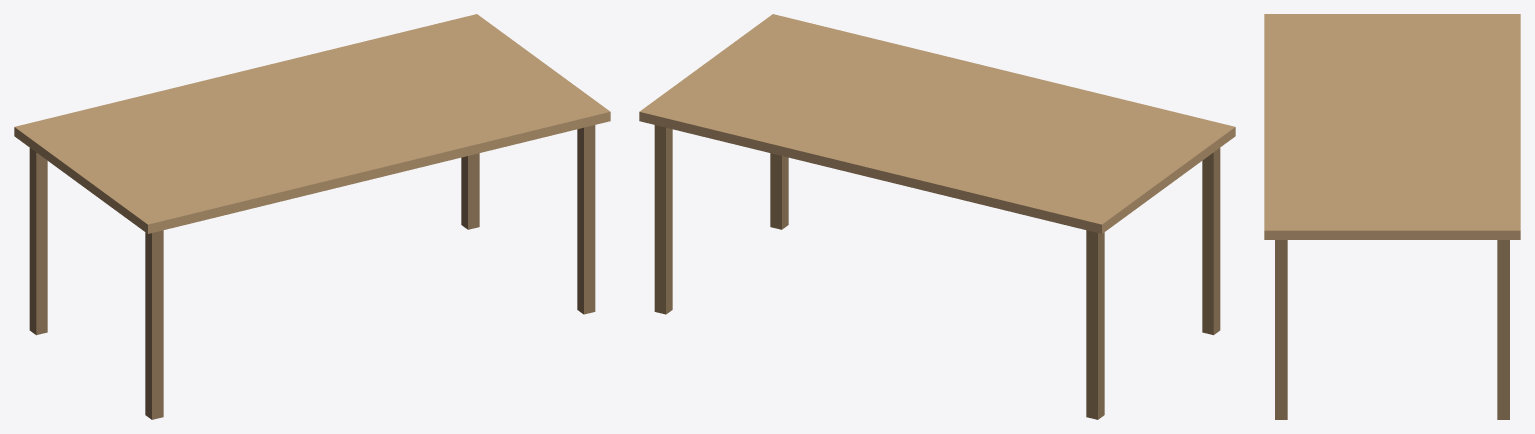
File: table-frene-180.glb
The picture shows the model from 3 angles, left to right: view 1: azimuth 30°, elevation 25°; view 2: azimuth 150°, elevation 25°; view 3: azimuth 270°, elevation 25°; orthographic projection. The views are drawn at different scales.
Visible parts, largest first — view 1: produit; view 2: produit; view 3: produit.
Part boxes in pixels (box(x1,y1,x2,y2)): produit: box(14, 14, 610, 419); produit: box(639, 14, 1235, 419); produit: box(1264, 14, 1520, 419).
Bounding box in the file's own units: 1.8 × 0.75 × 0.9.
